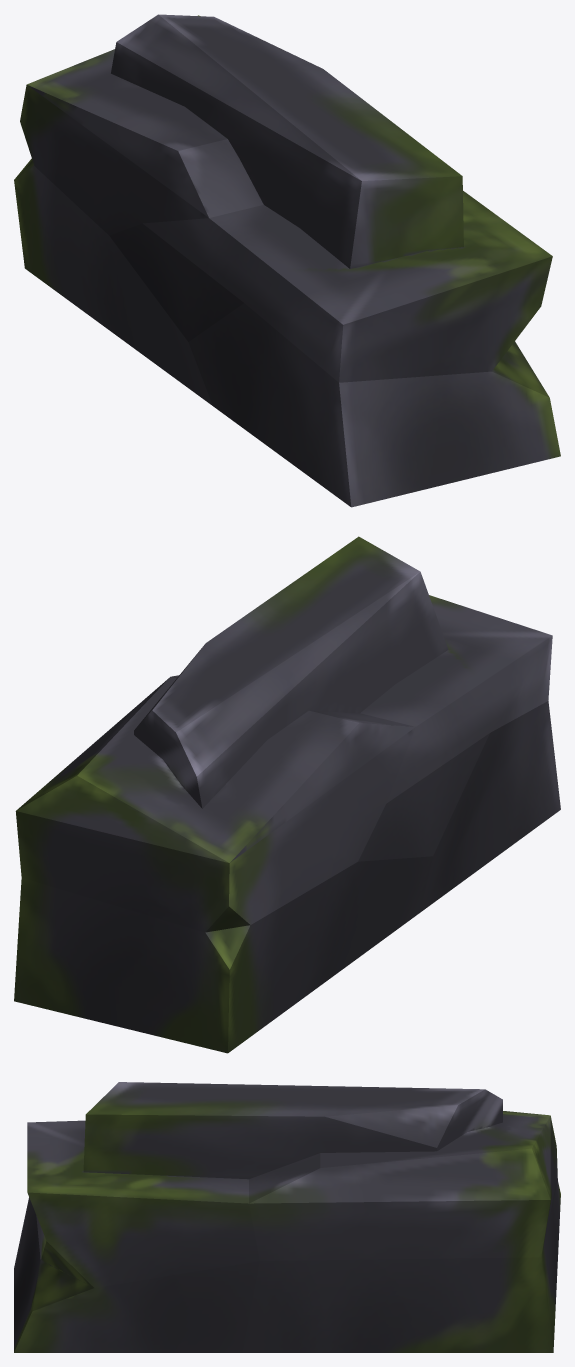
Rendered from Block2.fbx.
The picture shows the model from 3 angles, top to bottom: view 1: azimuth 30°, elevation 25°; view 2: azimuth 150°, elevation 25°; view 3: azimuth 270°, elevation 25°; orthographic projection. The views are drawn at different scales.
Parts seen in each view (by area): view 1: Rock1; view 2: Rock1; view 3: Rock1.
Part boxes in pixels (x1,y1,x2,y2): Rock1: [14, 14, 560, 507]; Rock1: [14, 536, 560, 1053]; Rock1: [14, 1082, 560, 1352].
Bounding box in the file's own units: 44.14 × 45.95 × 105.
